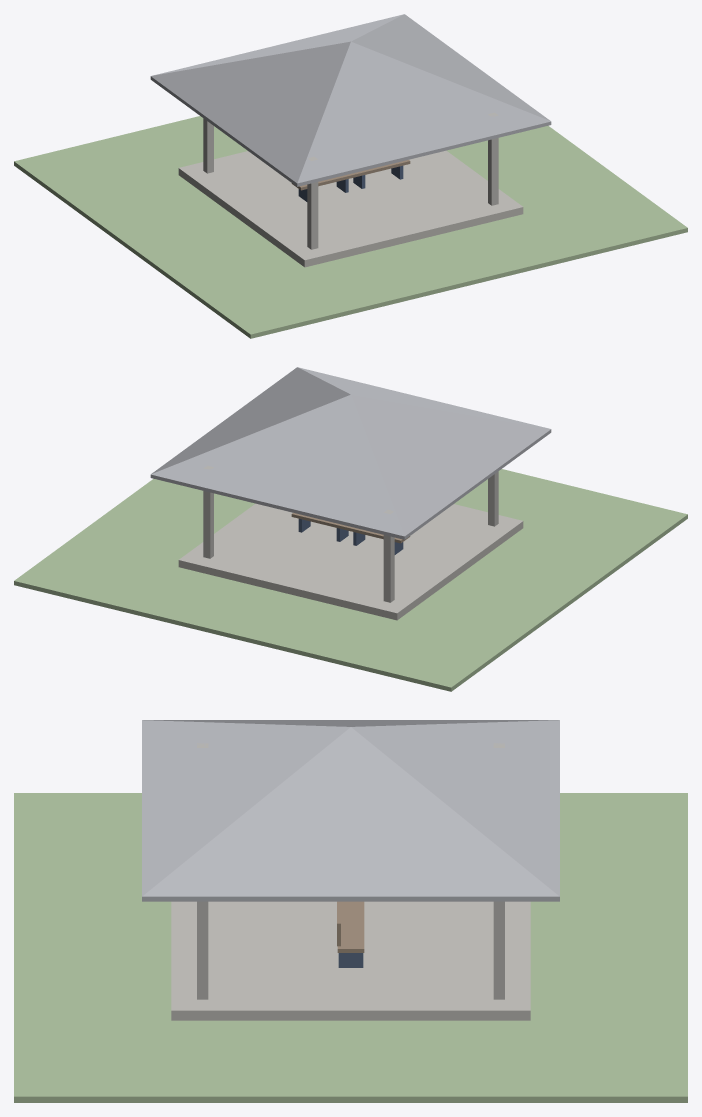
The model's file is 16_parks_greenery-04.glb.
The picture shows the model from 3 angles, top to bottom: view 1: azimuth 30°, elevation 25°; view 2: azimuth 150°, elevation 25°; view 3: azimuth 270°, elevation 25°; orthographic projection. The views are drawn at different scales.
Size of the model in its own units: 16 by 5.5 by 15.
